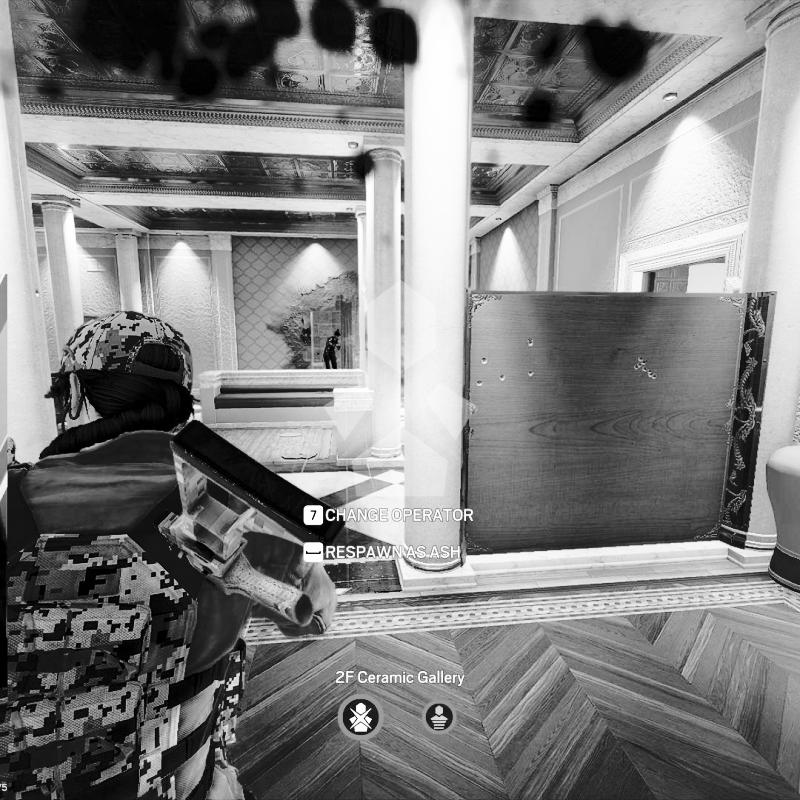Character: (0, 308, 347, 800), (322, 330, 344, 368)
Head: (42, 310, 197, 436), (334, 330, 342, 339)
